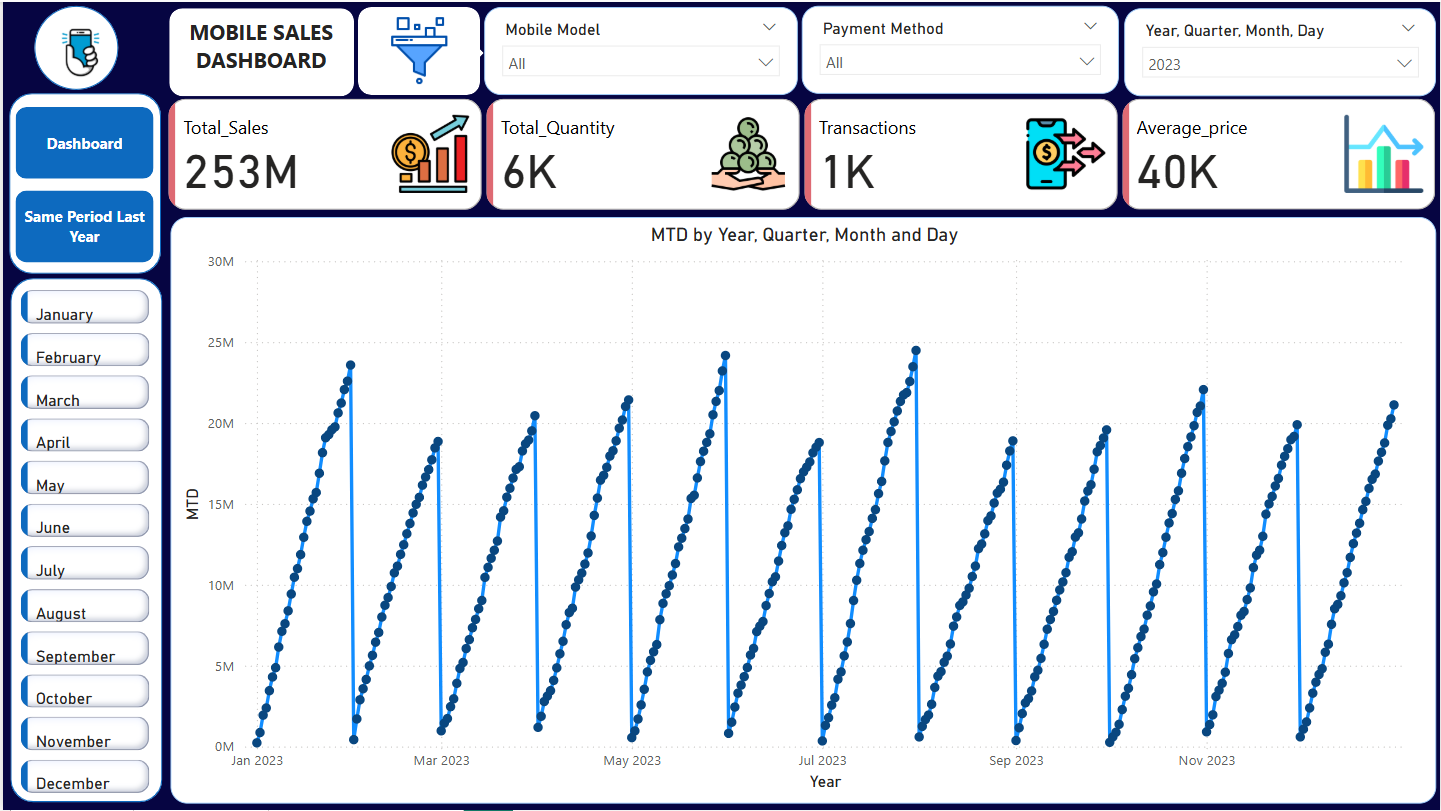

What the dashboard file says about the page in this screenshot:
{"tool":"powerbi","page":{"name":"MTD Report","canvas":[1280,720],"ordinal":1},"visuals":[{"type":"shape","box":[28,3.7,75,75],"z":0},{"type":"image","box":[36.6,9.8,64.6,69.5],"z":1000},{"type":"shape","box":[6.1,81.7,135.4,161],"z":2000},{"type":"cardVisual","fields":{"Data":["Mobile_Sales_Data.Total_Sales","Mobile_Sales_Data.Total_Quantity","Mobile_Sales_Data.Transactions","Custom_Calender.Average_price"]},"box":[142,81.5,1138.3,109.9],"z":3000},{"type":"slicer","fields":{"Values":["Mobile_Sales_Data.Mobile Model"]},"box":[428.3,5,278.9,78.3],"z":4000},{"type":"slicer","fields":{"Values":["Mobile_Sales_Data.Payment Method"]},"box":[711.1,3.9,282.2,78.3],"z":5000},{"type":"slicer","fields":{"Values":["Custom_Calender.Date.Variation.Date Hierarchy.Year","Custom_Calender.Date.Variation.Date Hierarchy.Quarter","Custom_Calender.Date.Variation.Date Hierarchy.Month","Custom_Calender.Date.Variation.Date Hierarchy.Day"]},"box":[998.4,5.4,277.8,78.4],"z":6000},{"type":"shape","box":[316.1,4.9,108.7,78.3],"z":7000},{"type":"shape","box":[391.9,26.7,36.4,37.7],"z":8000},{"type":"image","box":[318.2,8.1,104.9,71.7],"z":9000},{"type":"shape","box":[147.8,5.2,164.6,78.4],"z":10000},{"type":"textbox","box":[153.8,8.8,152.5,73.8],"z":11000},{"type":"lineChart","fields":{"Y":["Mobile_Sales_Data.MTD"],"Category":["Custom_Calender.Date.Variation.Date Hierarchy.Year","Custom_Calender.Date.Variation.Date Hierarchy.Quarter","Custom_Calender.Date.Variation.Date Hierarchy.Month","Custom_Calender.Date.Variation.Date Hierarchy.Day"]},"box":[148.8,191.2,1127.5,522.5],"z":12000},{"type":"shape","box":[6.2,246.3,135.4,467.3],"z":13000},{"type":"advancedSlicerVisual","fields":{"Values":["Custom_Calender.Date.Variation.Date Hierarchy.Month"]},"box":[11.6,252.1,124.2,467.9],"z":14000},{"type":"pageNavigator","box":[11.2,93.8,123.8,138.8],"z":15000}]}

Visuals, with their boxes in screenshot pixels (x1, y1, x2, y2), scaled from the page's 1280x720 canvas onto the 1441x811 screenshot:
shape: [left=32, top=4, right=116, bottom=89]
image: [left=41, top=11, right=114, bottom=89]
shape: [left=7, top=92, right=159, bottom=273]
cardVisual - Mobile_Sales_Data.Total_Sales x Mobile_Sales_Data.Total_Quantity: [left=160, top=92, right=1440, bottom=216]
slicer - Mobile_Sales_Data.Mobile Model: [left=482, top=6, right=796, bottom=94]
slicer - Mobile_Sales_Data.Payment Method: [left=801, top=4, right=1118, bottom=93]
slicer - Custom_Calender.Date.Variation.Date Hierarchy.Year x Custom_Calender.Date.Variation.Date Hierarchy.Quarter: [left=1124, top=6, right=1437, bottom=94]
shape: [left=356, top=6, right=478, bottom=94]
shape: [left=441, top=30, right=482, bottom=73]
image: [left=358, top=9, right=476, bottom=90]
shape: [left=166, top=6, right=352, bottom=94]
textbox: [left=173, top=10, right=345, bottom=93]
lineChart - Mobile_Sales_Data.MTD x Custom_Calender.Date.Variation.Date Hierarchy.Year: [left=168, top=215, right=1437, bottom=804]
shape: [left=7, top=277, right=159, bottom=804]
advancedSlicerVisual - Custom_Calender.Date.Variation.Date Hierarchy.Month: [left=13, top=284, right=153, bottom=810]
pageNavigator: [left=13, top=106, right=152, bottom=262]
